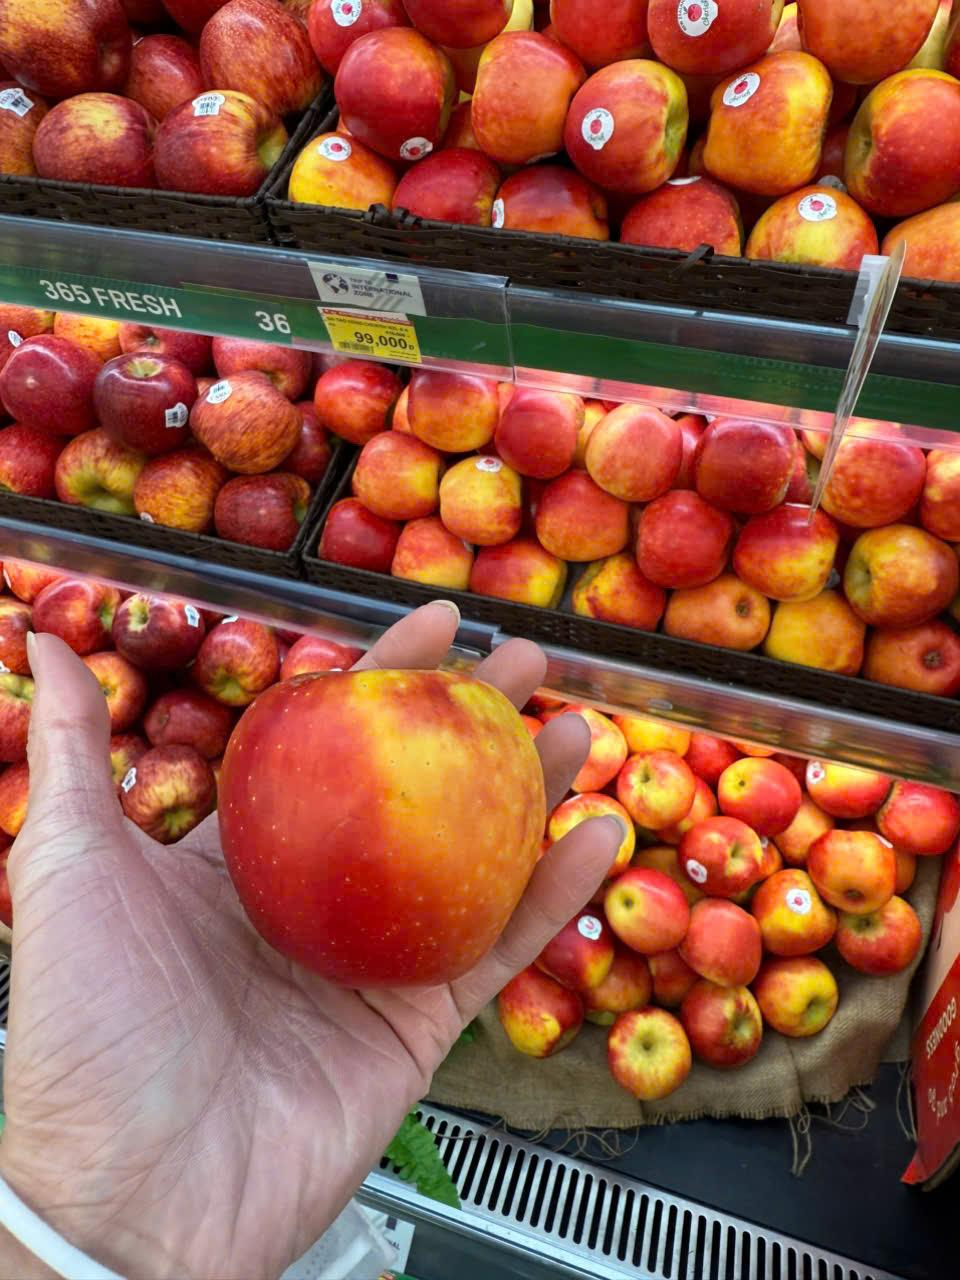apple: (210, 663, 546, 992), (835, 76, 960, 210), (567, 61, 698, 180), (330, 26, 454, 148), (710, 56, 828, 184), (470, 33, 564, 166), (640, 476, 734, 598), (185, 366, 296, 468), (818, 426, 930, 526), (750, 186, 880, 272), (597, 995, 694, 1106), (590, 396, 684, 506), (95, 341, 194, 444), (0, 333, 96, 438), (850, 528, 958, 620), (625, 183, 746, 264), (732, 506, 842, 592), (770, 588, 866, 682), (530, 470, 632, 558), (700, 423, 794, 512), (295, 140, 396, 222), (220, 461, 312, 550), (493, 168, 606, 240), (435, 448, 518, 544), (395, 153, 500, 228), (665, 573, 766, 650), (318, 488, 402, 580), (403, 376, 506, 450), (495, 386, 586, 468), (360, 426, 440, 518), (480, 533, 568, 616), (815, 826, 896, 916), (685, 805, 762, 896), (612, 750, 698, 830), (610, 866, 684, 954), (752, 955, 830, 1036), (60, 431, 136, 514), (882, 618, 960, 696), (722, 750, 798, 826), (690, 903, 760, 984), (755, 883, 832, 950), (400, 526, 474, 590), (142, 456, 202, 526)
